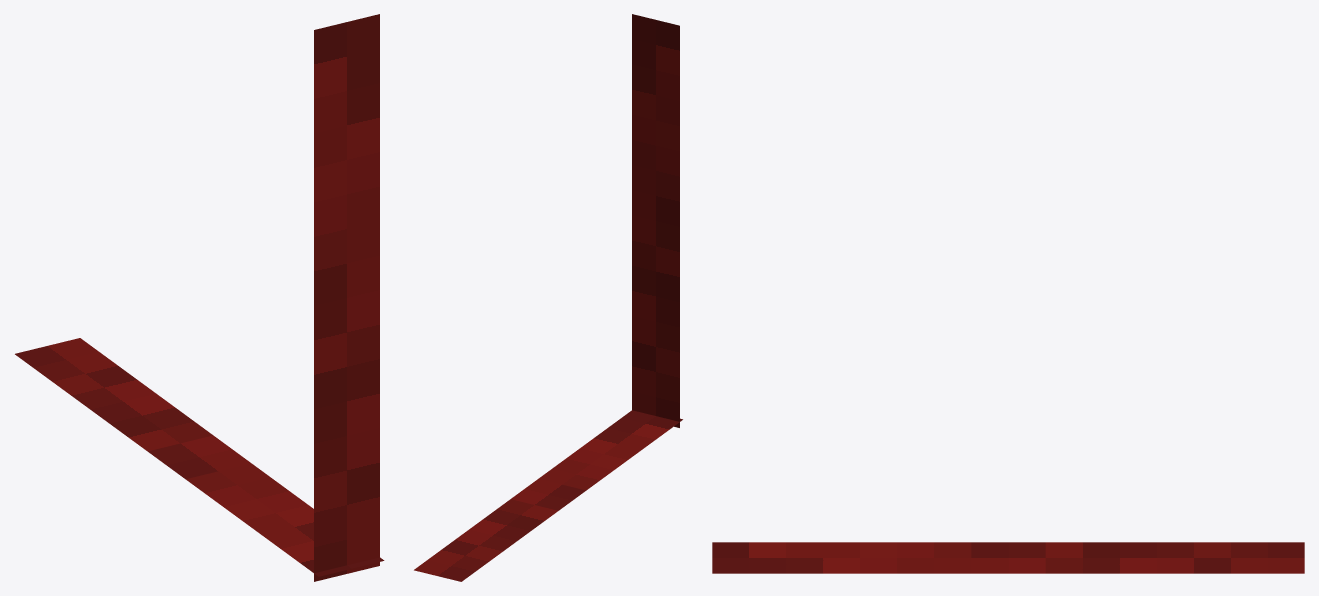
Rendered from dust_0021.gltf.
3 views of the same model, side by side, from view 1: azimuth 30°, elevation 25°; view 2: azimuth 150°, elevation 25°; view 3: azimuth 270°, elevation 25° (orthographic). The views are drawn at different scales.
Parts seen in each view (by area): view 1: dust_0021; view 2: dust_0021; view 3: dust_0021.
Boxes of the visible parts, left/top/right/bottom form: dust_0021: left=15, top=14, right=384, bottom=581; dust_0021: left=414, top=14, right=682, bottom=581; dust_0021: left=712, top=542, right=1304, bottom=573.
Size of the model in its own units: 0.125 by 1 by 1.
1 material, 1 textured.
